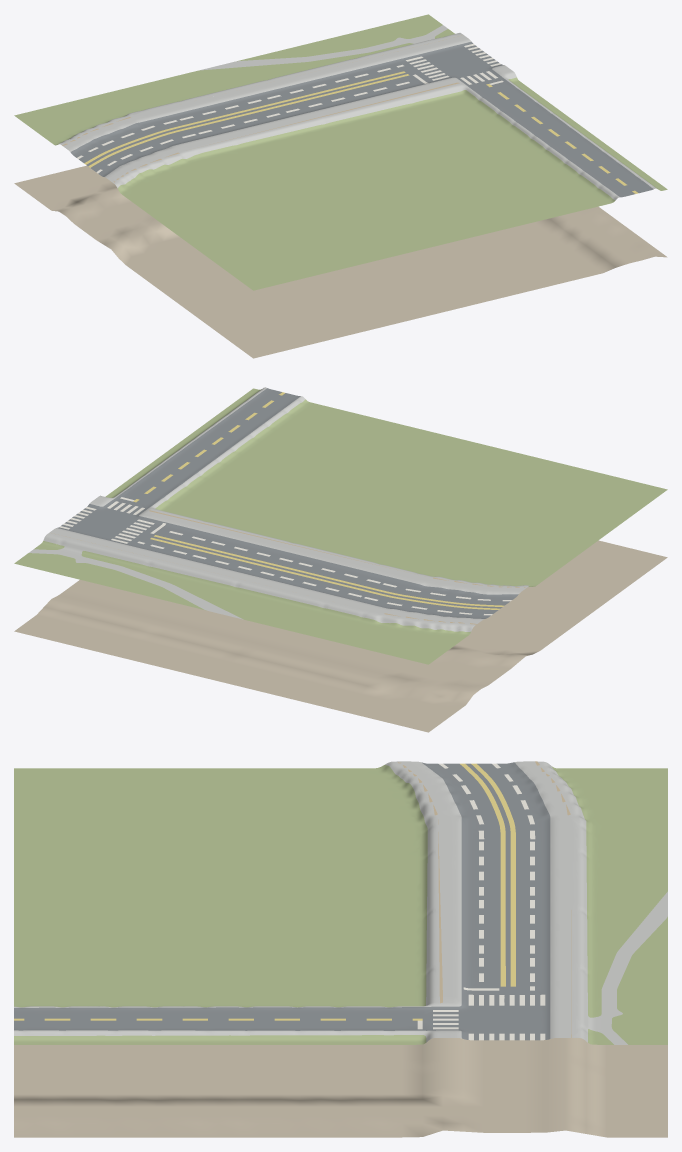
3 renders of one model, top to bottom at view 1: azimuth 30°, elevation 25°; view 2: azimuth 150°, elevation 25°; view 3: azimuth 270°, elevation 25°, orthographic. The views are drawn at different scales.
Visible parts, largest first — view 1: s_-11_-6__grass, s_-11_-6__soil, s_-11_-6__asphalt, s_-11_-6__stone_paving, s_-11_-6__yellow_marking, s_-11_-6__white_marking; view 2: s_-11_-6__grass, s_-11_-6__soil, s_-11_-6__asphalt, s_-11_-6__stone_paving, s_-11_-6__yellow_marking, s_-11_-6__white_marking, s_-11_-6__timber_deck; view 3: s_-11_-6__grass, s_-11_-6__soil, s_-11_-6__asphalt, s_-11_-6__stone_paving, s_-11_-6__yellow_marking, s_-11_-6__white_marking, s_-11_-6__timber_deck.
Boxes of the visible parts, box(x1,y1,x2,y2) form: s_-11_-6__grass: box(14, 14, 667, 290); s_-11_-6__soil: box(14, 165, 667, 358); s_-11_-6__asphalt: box(70, 41, 653, 197); s_-11_-6__stone_paving: box(59, 25, 656, 200); s_-11_-6__yellow_marking: box(84, 71, 638, 193); s_-11_-6__white_marking: box(77, 44, 503, 173); s_-11_-6__grass: box(14, 388, 667, 664); s_-11_-6__soil: box(14, 540, 667, 732); s_-11_-6__asphalt: box(57, 388, 518, 618); s_-11_-6__stone_paving: box(29, 387, 529, 631); s_-11_-6__yellow_marking: box(133, 392, 504, 609); s_-11_-6__white_marking: box(59, 497, 511, 615); s_-11_-6__timber_deck: box(51, 510, 525, 624); s_-11_-6__grass: box(14, 765, 667, 1044); s_-11_-6__soil: box(14, 1038, 667, 1137); s_-11_-6__asphalt: box(14, 762, 550, 1040); s_-11_-6__stone_paving: box(14, 761, 667, 1044); s_-11_-6__yellow_marking: box(14, 763, 515, 1020); s_-11_-6__white_marking: box(417, 763, 545, 1040); s_-11_-6__timber_deck: box(398, 761, 571, 1037).
Bounding box in the file's own units: 128 × 21.51 × 128.
